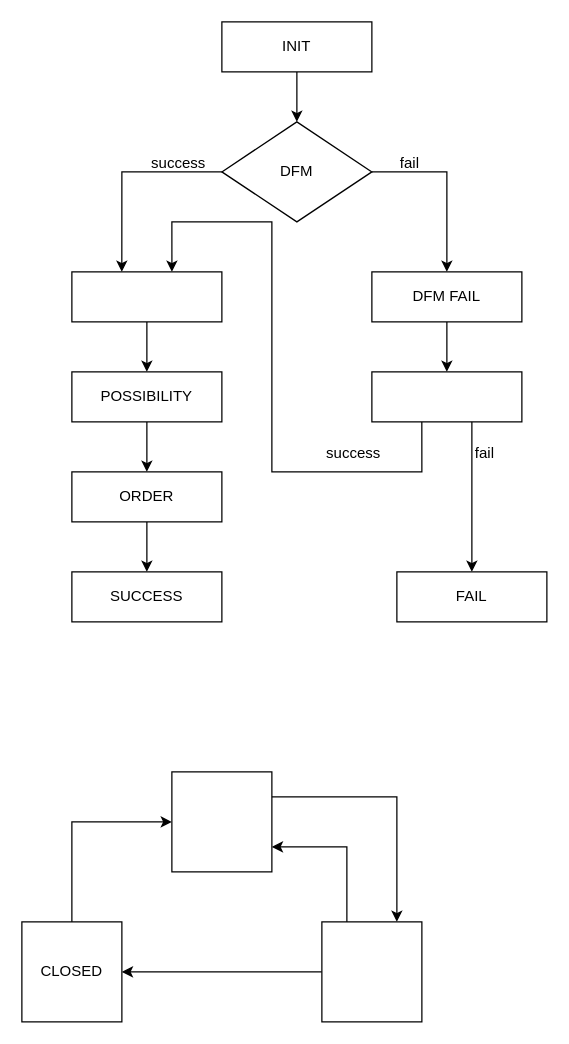
The diagram is 569 pixels wide and 1044 high, and some of its shapes have lost their labels. Each missing label, with the centre of its shape:
DFM SUCCESS: point 146,296
HALFOPEN: point 371,971
MANUAL CONTROL: point 446,396
OPEN: point 221,821
